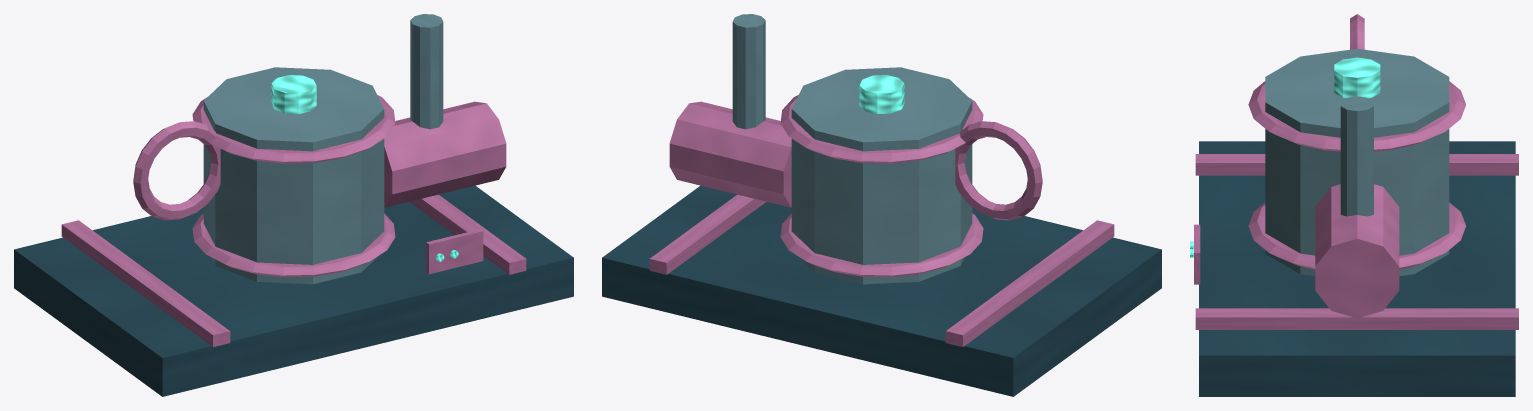
Rendered from atlas100-s064-a02.glb.
3 views of the same model, side by side, from view 1: azimuth 30°, elevation 25°; view 2: azimuth 150°, elevation 25°; view 3: azimuth 270°, elevation 25° (orthographic). The views are drawn at different scales.
Parts seen in each view (by area): view 1: atlas100-s064-a02:part-000, atlas100-s064-a02:part-003, atlas100-s064-a02:part-007, atlas100-s064-a02:part-001, atlas100-s064-a02:part-009, atlas100-s064-a02:part-008, atlas100-s064-a02:part-004, atlas100-s064-a02:part-005, atlas100-s064-a02:part-002, atlas100-s064-a02:part-010, atlas100-s064-a02:part-006; view 2: atlas100-s064-a02:part-000, atlas100-s064-a02:part-003, atlas100-s064-a02:part-007, atlas100-s064-a02:part-001, atlas100-s064-a02:part-009, atlas100-s064-a02:part-008, atlas100-s064-a02:part-004, atlas100-s064-a02:part-005, atlas100-s064-a02:part-002, atlas100-s064-a02:part-006; view 3: atlas100-s064-a02:part-000, atlas100-s064-a02:part-003, atlas100-s064-a02:part-007, atlas100-s064-a02:part-002, atlas100-s064-a02:part-008, atlas100-s064-a02:part-005, atlas100-s064-a02:part-001, atlas100-s064-a02:part-004, atlas100-s064-a02:part-006, atlas100-s064-a02:part-009, atlas100-s064-a02:part-010.
Boxes of the visible parts, box(x1,y1,x2,y2) form: atlas100-s064-a02:part-000: box(14, 185, 573, 396); atlas100-s064-a02:part-003: box(203, 67, 384, 284); atlas100-s064-a02:part-007: box(384, 101, 506, 207); atlas100-s064-a02:part-001: box(61, 220, 230, 346); atlas100-s064-a02:part-009: box(133, 121, 220, 220); atlas100-s064-a02:part-008: box(410, 14, 443, 129); atlas100-s064-a02:part-004: box(192, 213, 395, 277); atlas100-s064-a02:part-005: box(192, 95, 395, 163); atlas100-s064-a02:part-002: box(409, 194, 526, 274); atlas100-s064-a02:part-010: box(426, 229, 483, 274); atlas100-s064-a02:part-006: box(271, 75, 316, 114); atlas100-s064-a02:part-000: box(602, 185, 1161, 396); atlas100-s064-a02:part-003: box(791, 67, 972, 284); atlas100-s064-a02:part-007: box(669, 101, 791, 207); atlas100-s064-a02:part-001: box(945, 220, 1114, 346); atlas100-s064-a02:part-009: box(955, 121, 1042, 220); atlas100-s064-a02:part-008: box(732, 14, 765, 129); atlas100-s064-a02:part-004: box(780, 213, 983, 277); atlas100-s064-a02:part-005: box(780, 95, 983, 163); atlas100-s064-a02:part-002: box(649, 194, 766, 274); atlas100-s064-a02:part-006: box(859, 75, 904, 114); atlas100-s064-a02:part-000: box(1199, 141, 1515, 396); atlas100-s064-a02:part-003: box(1265, 48, 1449, 276); atlas100-s064-a02:part-007: box(1315, 184, 1399, 318); atlas100-s064-a02:part-002: box(1195, 308, 1518, 329); atlas100-s064-a02:part-008: box(1340, 96, 1373, 216); atlas100-s064-a02:part-005: box(1248, 81, 1465, 151); atlas100-s064-a02:part-001: box(1195, 154, 1518, 175); atlas100-s064-a02:part-004: box(1248, 202, 1465, 269); atlas100-s064-a02:part-006: box(1334, 57, 1380, 98); atlas100-s064-a02:part-009: box(1350, 14, 1364, 49); atlas100-s064-a02:part-010: box(1194, 224, 1200, 284).
Bounding box in the file's own units: 2.88 × 1.6 × 1.87.
Materials: 4 (4 with a texture image).
